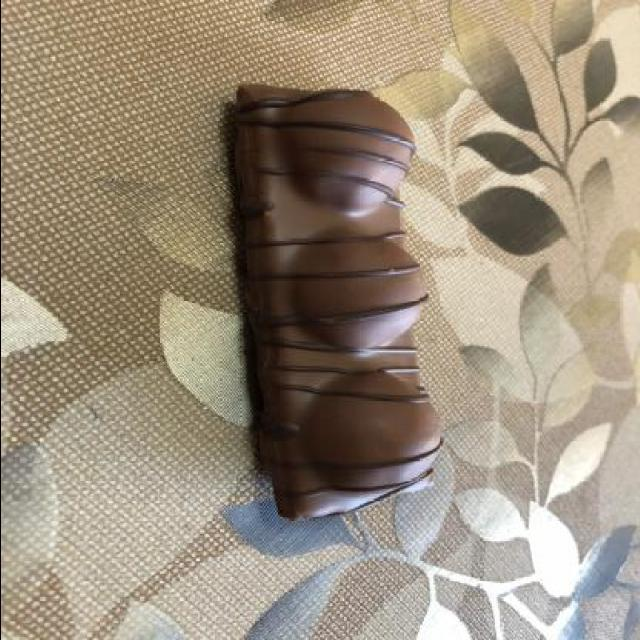Chocolate bar packaged: (228, 82, 444, 520)
